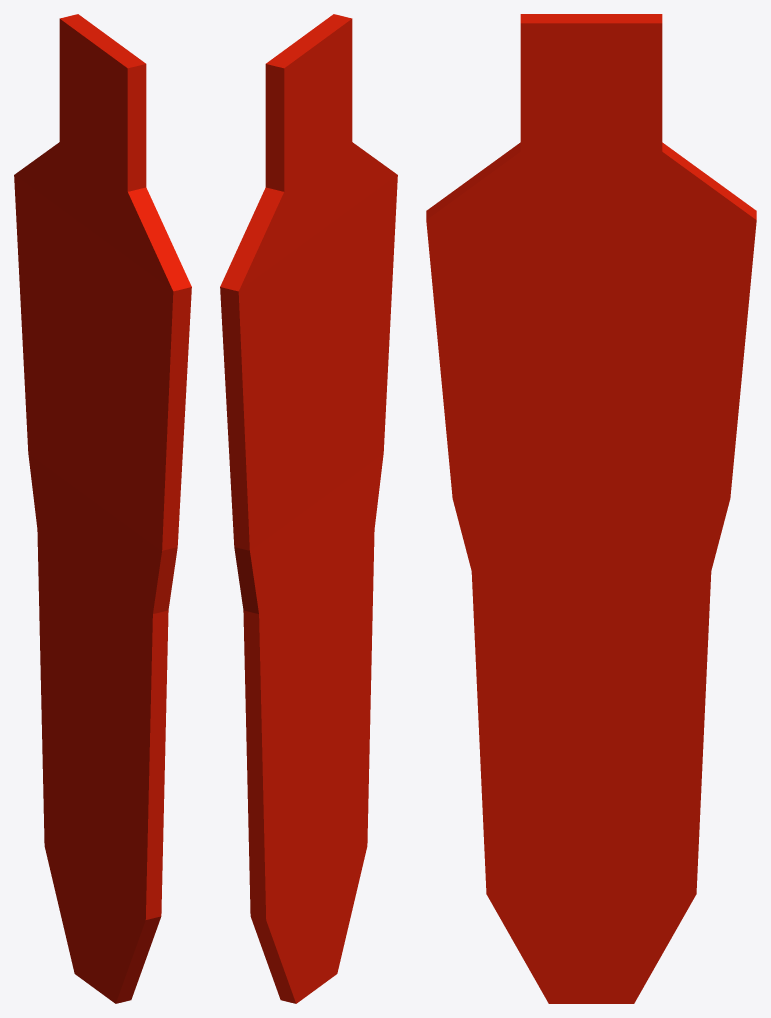
Rendered from footballwall1.fbx.
3 views of the same model, side by side, from view 1: azimuth 30°, elevation 25°; view 2: azimuth 150°, elevation 25°; view 3: azimuth 270°, elevation 25° (orthographic). The views are drawn at different scales.
Parts seen in each view (by area): view 1: Cube; view 2: Cube; view 3: Cube.
Boxes of the visible parts, x1,y1,x2,y2 form: Cube: (14,14,191,1003); Cube: (220,14,397,1003); Cube: (426,14,756,1003).
Bounding box in the file's own units: 18.58 × 904 × 276.
